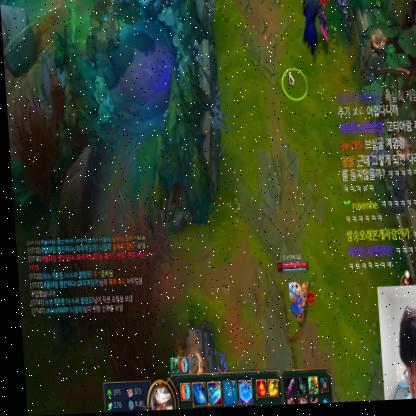streamer: (386, 306, 416, 403)
